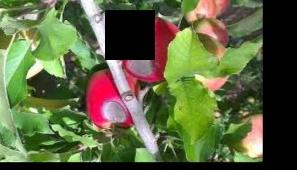rotten apple: (115, 17, 183, 85), (79, 69, 148, 126)
